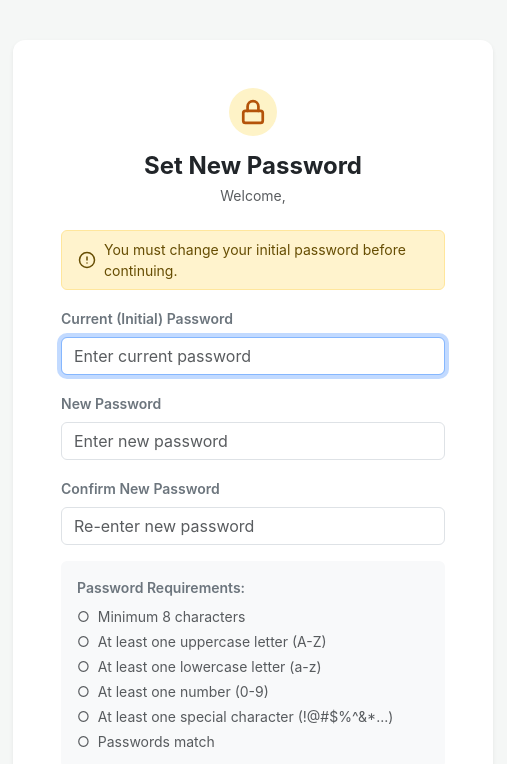
ChangePasswordView Component (Issue 20 - UI-02) › enables submit button only when all criteria and current password are provided
Type "InitialPass123!" into the password field labelled "Current (Initial) Password" at [253, 356], box [61,337,445,375]
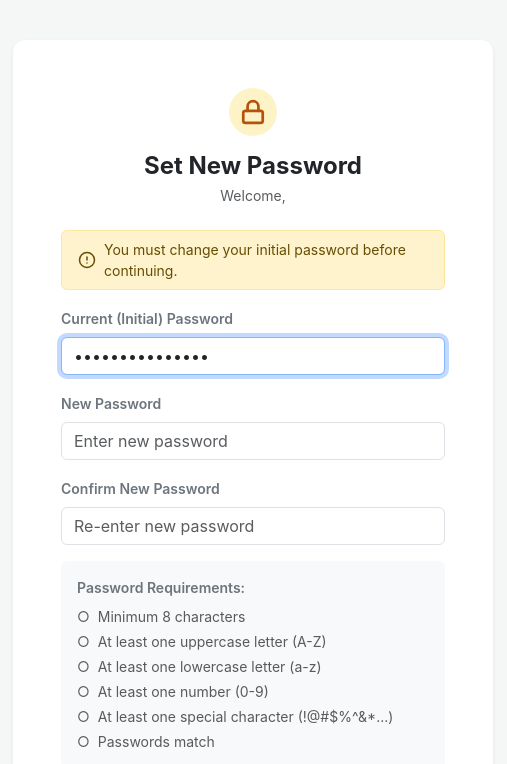
Type "BrandNewPass999!" into the password field labelled "New Password" at [253, 441], box [61,422,445,460]
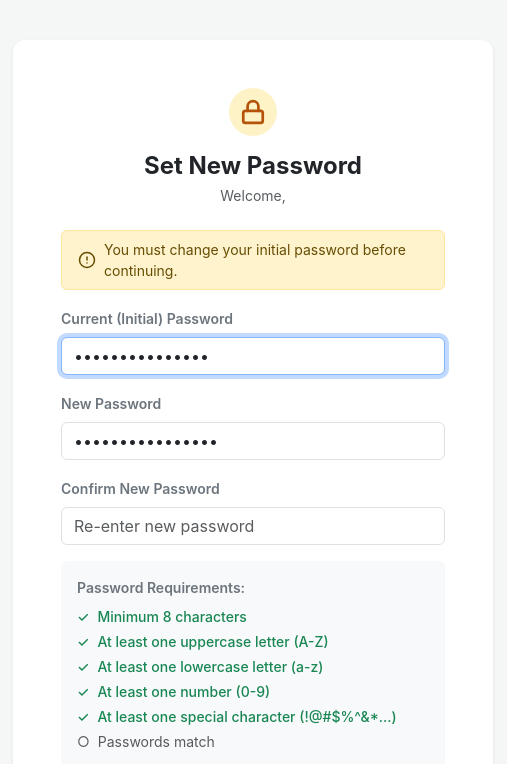
Type "BrandNewPass999!" into the password field labelled "Confirm New Password" at [253, 526], box [61,507,445,545]
(page scrolled)
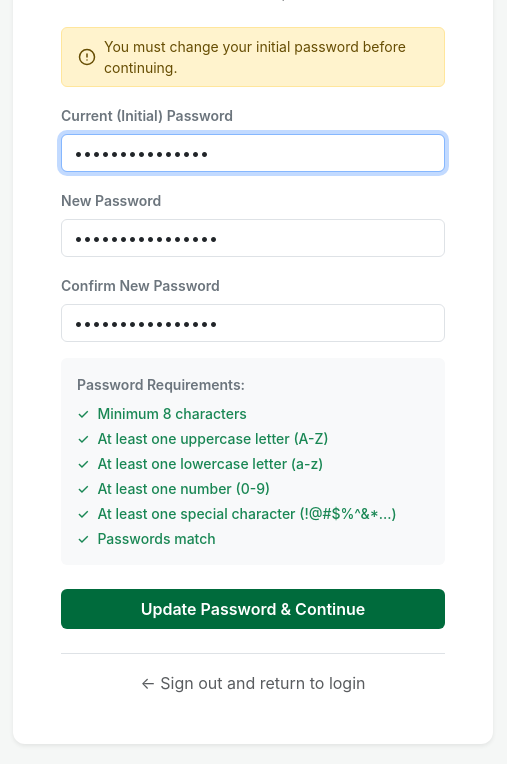
expect the button with test id "change-password-submit-button" is enabled: met, box [61,589,445,629]
